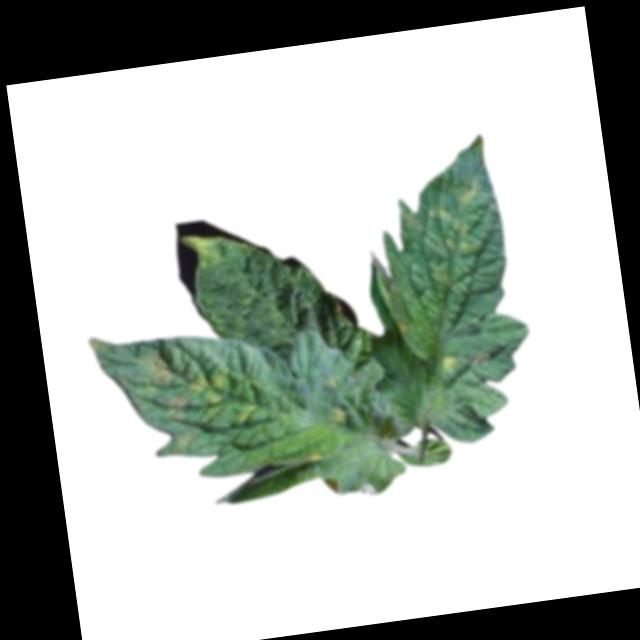Leaf_Mold: (187, 359, 271, 435), (180, 226, 240, 266), (454, 173, 490, 210), (439, 351, 462, 374)
